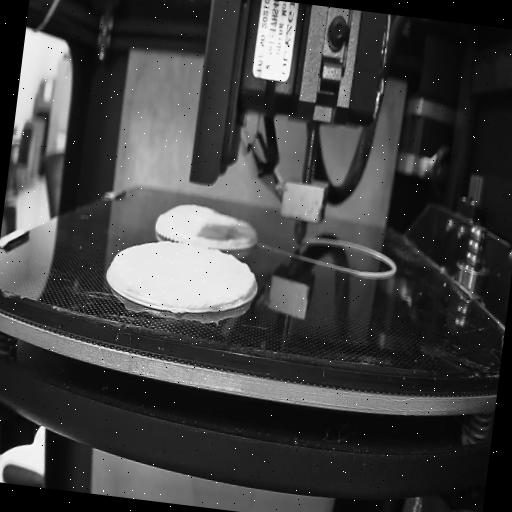over_extrusion: (238, 273, 259, 307)
